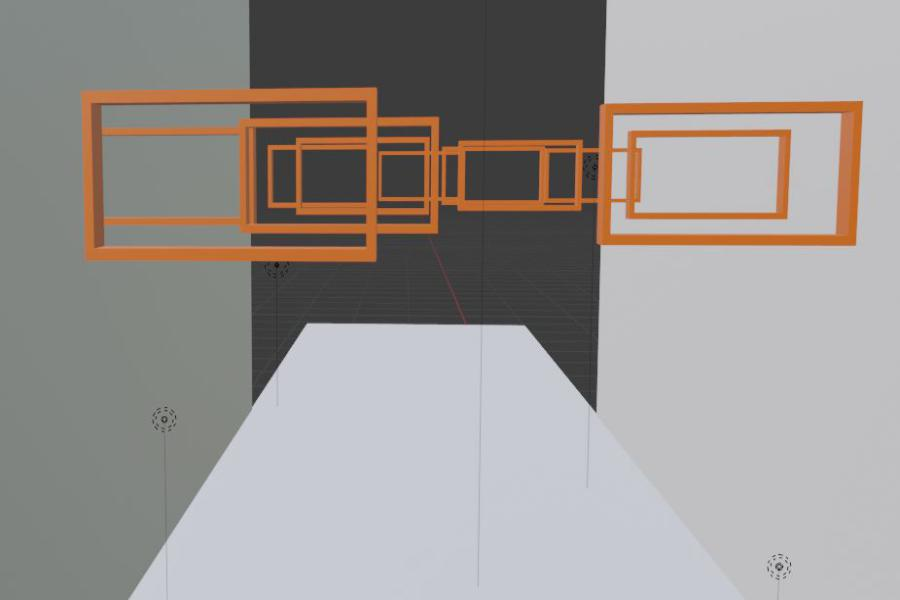GATE: (83, 88, 378, 259), (598, 100, 861, 244), (238, 115, 442, 234), (630, 126, 791, 219), (295, 137, 429, 215), (455, 140, 581, 210)
